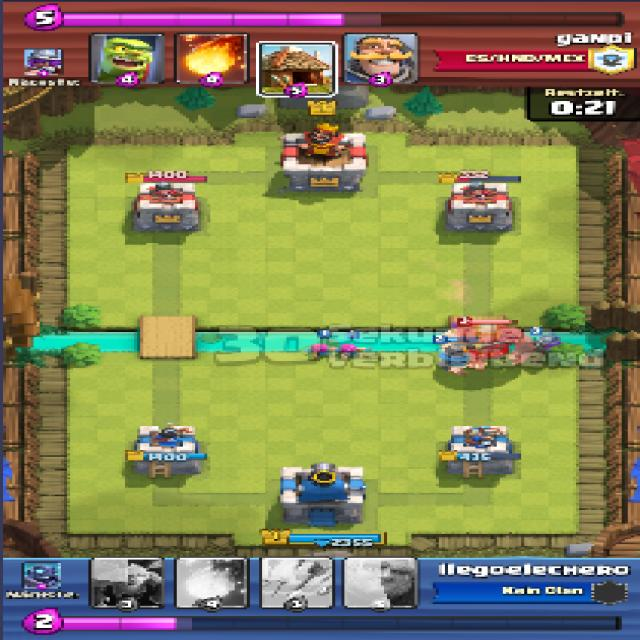Enemy-Giant: (437, 323, 532, 371)
Player-Archer: (338, 344, 370, 360), (303, 344, 337, 359)
Player-Knight: (434, 341, 474, 374)
Player-Musketeer: (524, 335, 565, 362)
